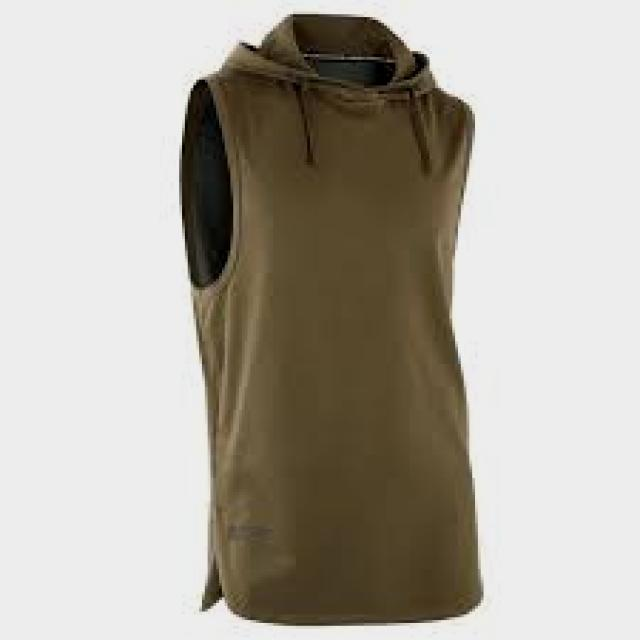no_vest: (178, 12, 487, 624)
